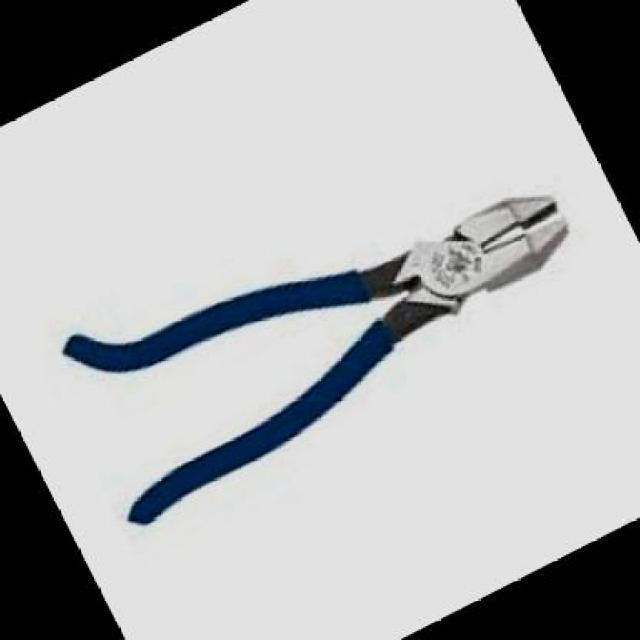pliers: (21, 98, 634, 567)
